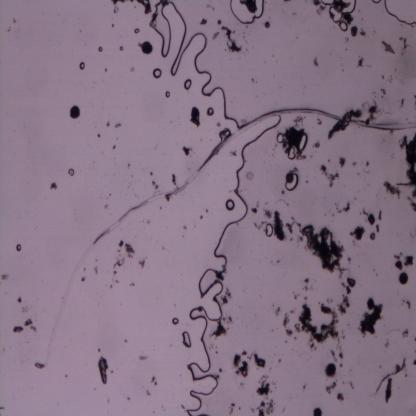Air bubble: (181, 115, 282, 414), (149, 1, 240, 126), (229, 0, 267, 27), (383, 0, 416, 27), (285, 173, 300, 191), (330, 7, 344, 25), (342, 0, 357, 15), (181, 330, 193, 348), (299, 132, 309, 150), (264, 222, 274, 238), (151, 67, 163, 79), (182, 77, 192, 91), (288, 144, 296, 160), (338, 20, 348, 32), (276, 132, 284, 146), (318, 0, 336, 6), (226, 199, 235, 211), (78, 60, 85, 72), (172, 316, 180, 326), (134, 26, 140, 36), (164, 90, 171, 98), (372, 0, 382, 5), (15, 244, 22, 251), (98, 46, 103, 52), (120, 46, 124, 52)
Background material: (282, 299, 341, 352), (302, 226, 348, 276), (369, 358, 408, 398), (110, 240, 136, 288), (357, 294, 383, 338), (396, 132, 416, 188), (327, 110, 361, 140), (218, 19, 244, 54), (338, 277, 358, 314), (362, 98, 389, 123), (291, 278, 315, 302), (318, 163, 340, 187), (231, 348, 249, 376), (284, 126, 305, 147), (255, 375, 273, 399), (273, 206, 285, 242), (213, 318, 232, 340), (12, 320, 40, 334), (97, 354, 109, 386), (188, 102, 202, 128), (257, 398, 275, 416), (138, 37, 154, 56), (286, 215, 300, 236), (384, 180, 400, 198), (360, 208, 376, 225), (348, 225, 366, 240), (323, 361, 338, 379), (136, 0, 153, 15), (254, 350, 268, 368), (393, 250, 403, 273), (406, 188, 416, 209), (312, 0, 326, 14), (292, 113, 306, 127), (69, 105, 82, 120), (221, 290, 234, 305), (398, 33, 408, 51), (386, 376, 392, 406), (403, 253, 414, 269), (334, 204, 350, 215), (181, 145, 193, 158), (47, 181, 59, 193), (356, 55, 366, 69), (324, 383, 336, 394), (252, 200, 261, 214), (349, 25, 359, 37), (228, 400, 236, 415), (337, 157, 347, 169), (263, 208, 273, 220), (246, 169, 255, 182), (112, 1, 119, 16), (228, 148, 238, 158), (151, 180, 161, 190), (336, 392, 346, 402), (67, 166, 76, 177), (402, 327, 410, 339), (136, 354, 149, 361), (359, 28, 368, 37), (207, 107, 215, 117), (113, 122, 123, 130), (313, 406, 321, 416), (138, 258, 146, 268), (313, 55, 319, 68), (377, 208, 383, 221), (400, 97, 405, 111), (381, 86, 388, 96), (374, 222, 380, 233), (173, 172, 177, 188), (119, 0, 135, 4), (36, 362, 44, 370), (314, 141, 321, 150), (274, 306, 281, 315), (406, 300, 412, 310), (151, 375, 157, 385), (93, 264, 98, 276), (103, 202, 110, 210), (179, 402, 186, 410), (6, 25, 12, 34), (200, 19, 208, 25), (146, 389, 152, 396), (166, 195, 173, 201), (129, 66, 136, 72), (370, 232, 375, 240), (302, 383, 307, 390), (183, 224, 188, 231), (106, 120, 110, 128), (366, 160, 370, 168), (199, 214, 204, 220), (277, 358, 282, 364), (218, 367, 222, 373), (126, 395, 130, 401), (112, 144, 116, 150), (96, 132, 100, 138), (110, 369, 114, 374), (111, 23, 115, 28), (12, 18, 16, 23), (98, 347, 101, 353), (215, 351, 219, 355), (104, 68, 107, 73), (150, 171, 153, 176), (124, 338, 127, 343)
Diatom: (382, 41, 396, 55), (284, 171, 295, 183), (399, 272, 409, 284)
Microfibre: (43, 107, 416, 368)
